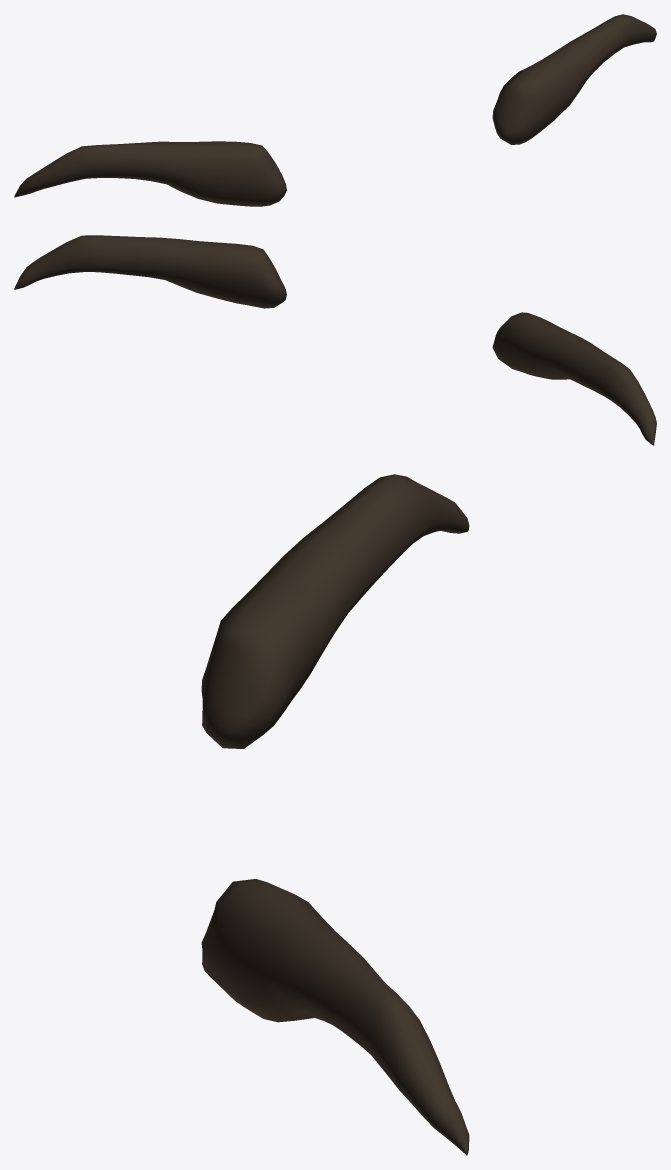
File: eyebrow2.fbx
3 views of the same model, one above another, from view 1: azimuth 30°, elevation 25°; view 2: azimuth 150°, elevation 25°; view 3: azimuth 270°, elevation 25° (orthographic). The views are drawn at different scales.
Visible parts, largest first — view 1: Group1, EYEBROW2:Group63901; view 2: EYEBROW2:Group63901, Group1; view 3: Group1, EYEBROW2:Group63901.
Part boxes in pixels (x1,y1,x2,y2): Group1: (14,141,286,206); EYEBROW2:Group63901: (492,14,656,144); EYEBROW2:Group63901: (14,235,286,308); Group1: (492,312,656,445); Group1: (201,474,469,748); EYEBROW2:Group63901: (201,879,469,1155).
Bounding box in the file's own units: 0.5805 × 0.0557 × 0.1052.
